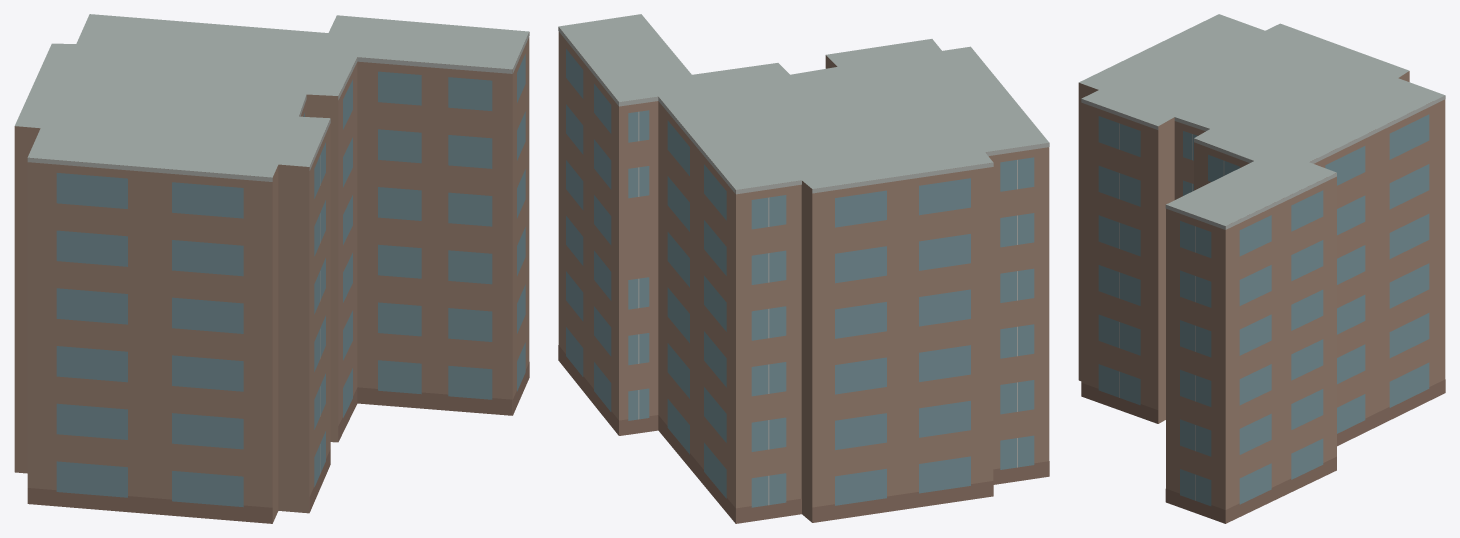
Rendered from survey-upis-32716218.glb.
3 views of the same model, side by side, from view 1: azimuth 30°, elevation 25°; view 2: azimuth 150°, elevation 25°; view 3: azimuth 270°, elevation 25° (orthographic). The views are drawn at different scales.
Parts seen in each view (by area): view 1: survey-upis-32716218.tmp; view 2: survey-upis-32716218.tmp; view 3: survey-upis-32716218.tmp.
Boxes of the visible parts, x1,y1,x2,y2 form: survey-upis-32716218.tmp: [14, 14, 529, 523]; survey-upis-32716218.tmp: [558, 14, 1049, 523]; survey-upis-32716218.tmp: [1078, 14, 1445, 523].
Bounding box in the file's own units: 28.42 × 18.6 × 20.78.
